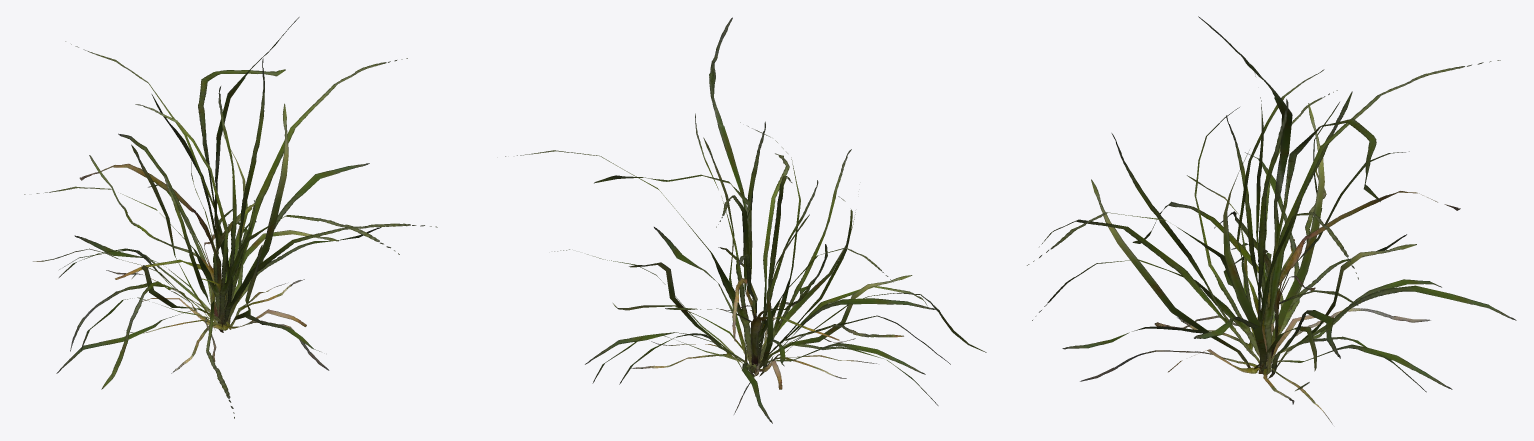
The model's file is grass-medium-01-small-a.glb.
3 views of the same model, side by side, from view 1: azimuth 30°, elevation 25°; view 2: azimuth 150°, elevation 25°; view 3: azimuth 270°, elevation 25° (orthographic). The views are drawn at different scales.
Parts seen in each view (by area): view 1: grass_medium_01_small_a; view 2: grass_medium_01_small_a; view 3: grass_medium_01_small_a.
Boxes of the visible parts, x1,y1,x2,y2 form: grass_medium_01_small_a: (24, 17, 437, 418); grass_medium_01_small_a: (505, 17, 986, 423); grass_medium_01_small_a: (1027, 16, 1516, 424).
Bounding box in the file's own units: 0.1848 × 0.1404 × 0.1623.
Materials: 1 (1 with a texture image).
